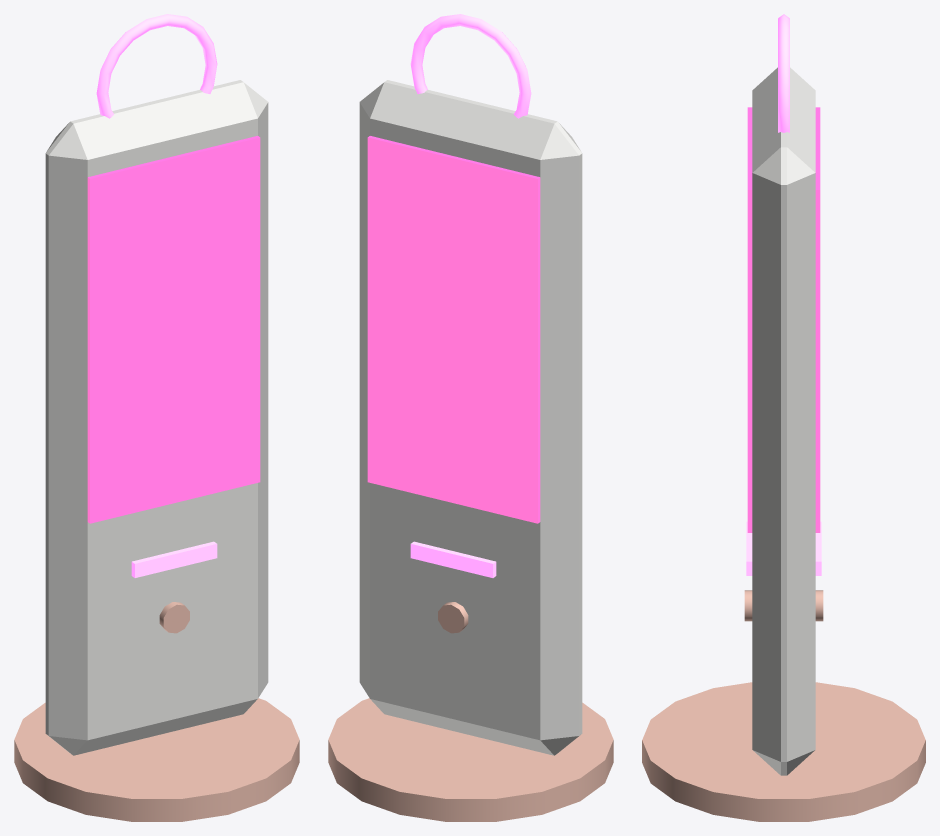
The model's file is ag_kiosk.glb.
3 renders of one model, left to right at view 1: azimuth 30°, elevation 25°; view 2: azimuth 150°, elevation 25°; view 3: azimuth 270°, elevation 25°, orthographic.
Parts seen in each view (by area): view 1: ag_kiosk; view 2: ag_kiosk; view 3: ag_kiosk.
Part boxes in pixels (<box>): ag_kiosk: <box>14,14,299,821</box>; ag_kiosk: <box>328,14,613,821</box>; ag_kiosk: <box>642,14,925,821</box>.
Size of the model in its own units: 0.8863 by 2.6 by 0.9.
